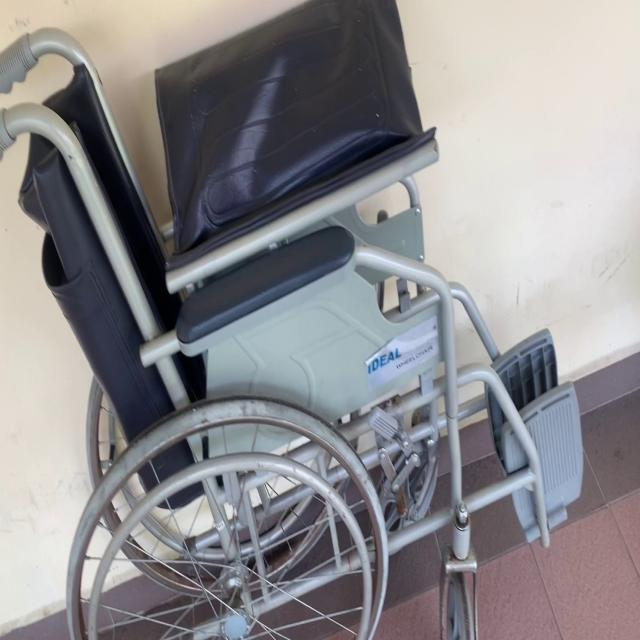wheelchair: (2, 0, 592, 640)
